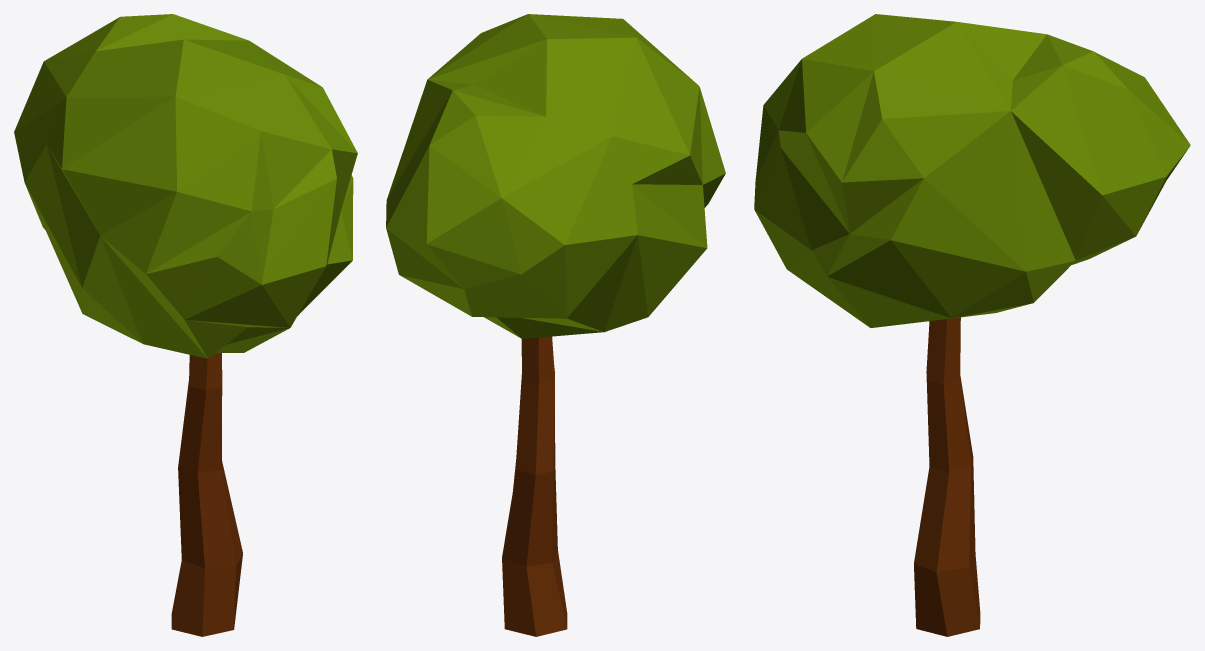
The model's file is Tree_1_Green.fbx.
The picture shows the model from 3 angles, left to right: view 1: azimuth 30°, elevation 25°; view 2: azimuth 150°, elevation 25°; view 3: azimuth 270°, elevation 25°; orthographic projection.
Visible parts, largest first — view 1: pCube2, pCylinder3; view 2: pCube2, pCylinder3; view 3: pCube2, pCylinder3.
Part boxes in pixels (box(x1,y1,x2,y2)): pCube2: box(14, 14, 357, 358); pCylinder3: box(171, 353, 242, 636); pCube2: box(386, 14, 725, 338); pCylinder3: box(502, 336, 567, 636); pCube2: box(754, 14, 1190, 327); pCylinder3: box(914, 317, 980, 636).
Size of the model in its own units: 364 by 755 by 505.
